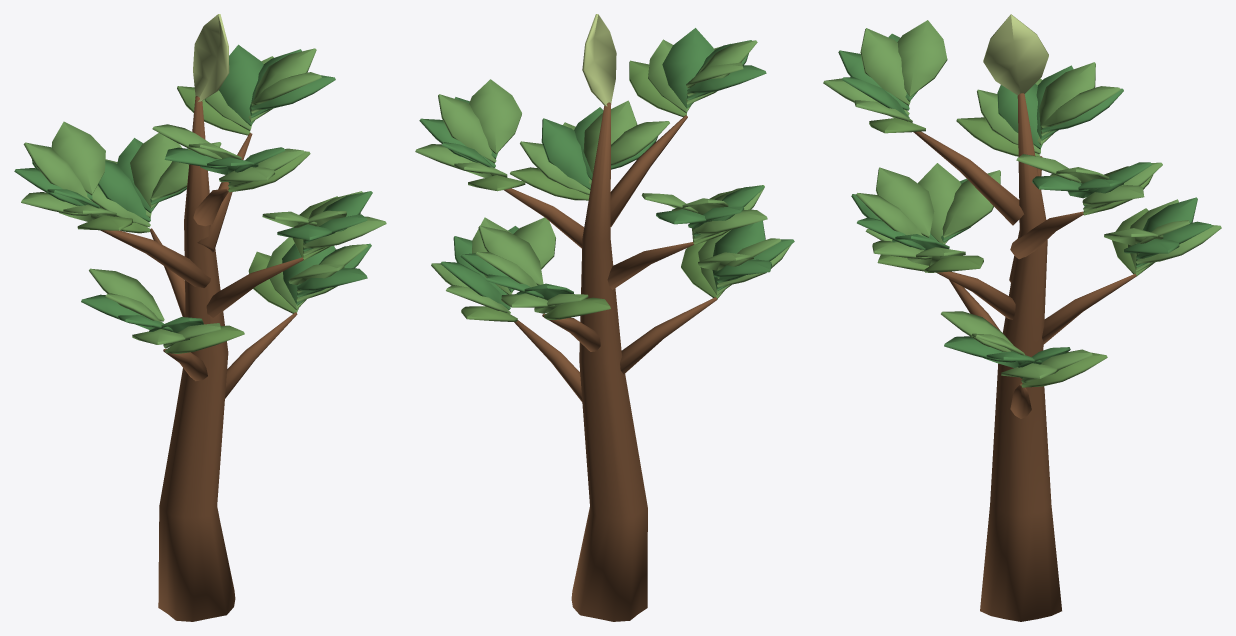
The model's file is mission_tree_young.glb.
The picture shows the model from 3 angles, left to right: view 1: azimuth 30°, elevation 25°; view 2: azimuth 150°, elevation 25°; view 3: azimuth 270°, elevation 25°; orthographic projection. The views are drawn at different scales.
Parts seen in each view (by area): view 1: Heartwood, Crown Leaf meadow, Crown Leaf fern, Crown Leaf weather, Crown Leaf new tips; view 2: Heartwood, Crown Leaf meadow, Crown Leaf fern, Crown Leaf weather, Crown Leaf new tips; view 3: Heartwood, Crown Leaf meadow, Crown Leaf fern, Crown Leaf weather, Crown Leaf new tips.
Part boxes in pixels (left/top/right/bottom): Heartwood: left=100, top=96, right=303, bottom=621; Crown Leaf meadow: left=21, top=48, right=386, bottom=348; Crown Leaf fern: left=14, top=44, right=372, bottom=332; Crown Leaf weather: left=77, top=86, right=337, bottom=353; Crown Leaf new tips: left=193, top=14, right=229, bottom=101; Heartwood: left=504, top=102, right=717, bottom=621; Crown Leaf meadow: left=415, top=39, right=791, bottom=313; Crown Leaf fern: left=419, top=28, right=794, bottom=309; Crown Leaf weather: left=461, top=60, right=730, bottom=321; Crown Leaf new tips: left=582, top=14, right=616, bottom=106; Heartwood: left=913, top=93, right=1136, bottom=621; Crown Leaf meadow: left=823, top=20, right=1221, bottom=383; Crown Leaf fern: left=838, top=33, right=1212, bottom=378; Crown Leaf weather: left=869, top=117, right=1153, bottom=387; Crown Leaf new tips: left=983, top=14, right=1048, bottom=95.
Bounding box in the file's own units: 1.21 × 2.03 × 1.21.
